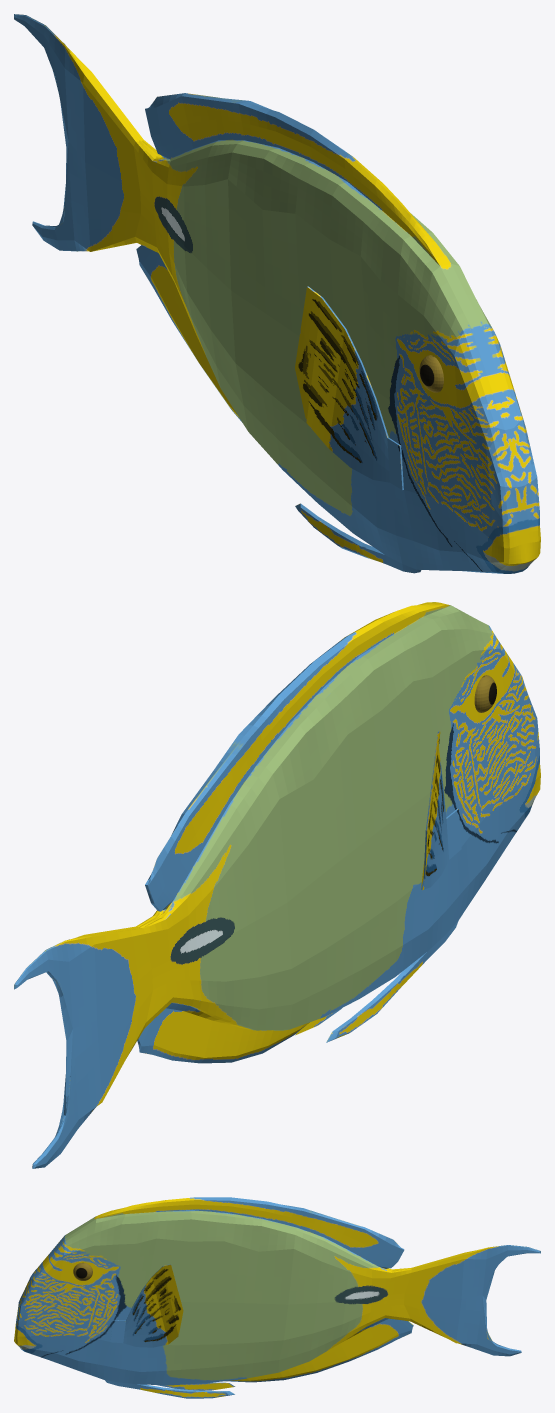
File: surgeonfish.fbx
3 renders of one model, top to bottom at view 1: azimuth 30°, elevation 25°; view 2: azimuth 150°, elevation 25°; view 3: azimuth 270°, elevation 25°, orthographic. The views are drawn at different scales.
Parts seen in each view (by area): view 1: Cube; view 2: Cube; view 3: Cube.
Boxes of the visible parts, box(x1,y1,x2,y2) form: Cube: box(14, 14, 540, 573); Cube: box(14, 602, 540, 1168); Cube: box(14, 1197, 540, 1398).
Bounding box in the file's own units: 0.3311 × 0.9163 × 2.22.
Materials: 2 (2 with a texture image).
